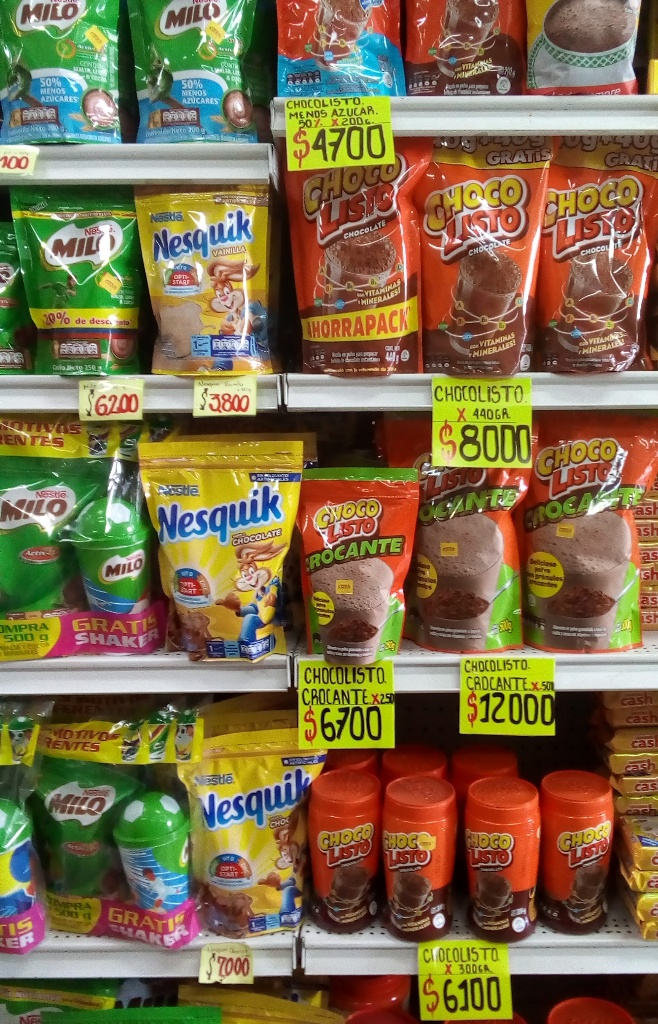COL0170102DYP25000: (302, 460, 418, 659)
COL0170102DYP50000: (382, 412, 552, 652)
COL0170103DYP44000: (282, 137, 434, 375)
COL0170103TRR30000: (305, 776, 382, 935)
COL0170203DYP25000: (10, 189, 142, 375)
COL0170203DYP50000: (3, 455, 104, 656)
COL0170205DYP20000: (0, 2, 135, 140)
COL0170306DYP20000: (136, 184, 275, 377)
